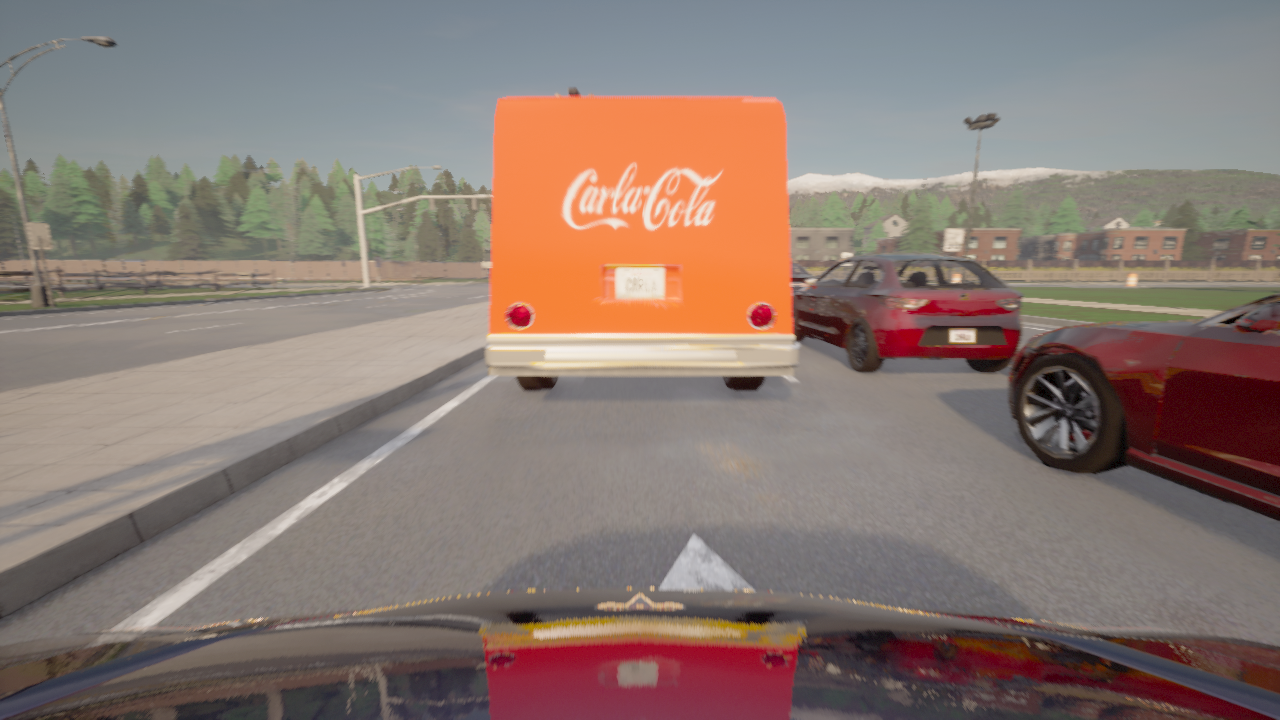cyclist: (0, 588, 1279, 719), (485, 97, 799, 389), (1008, 293, 1279, 521), (791, 253, 1022, 372), (789, 262, 815, 294)
